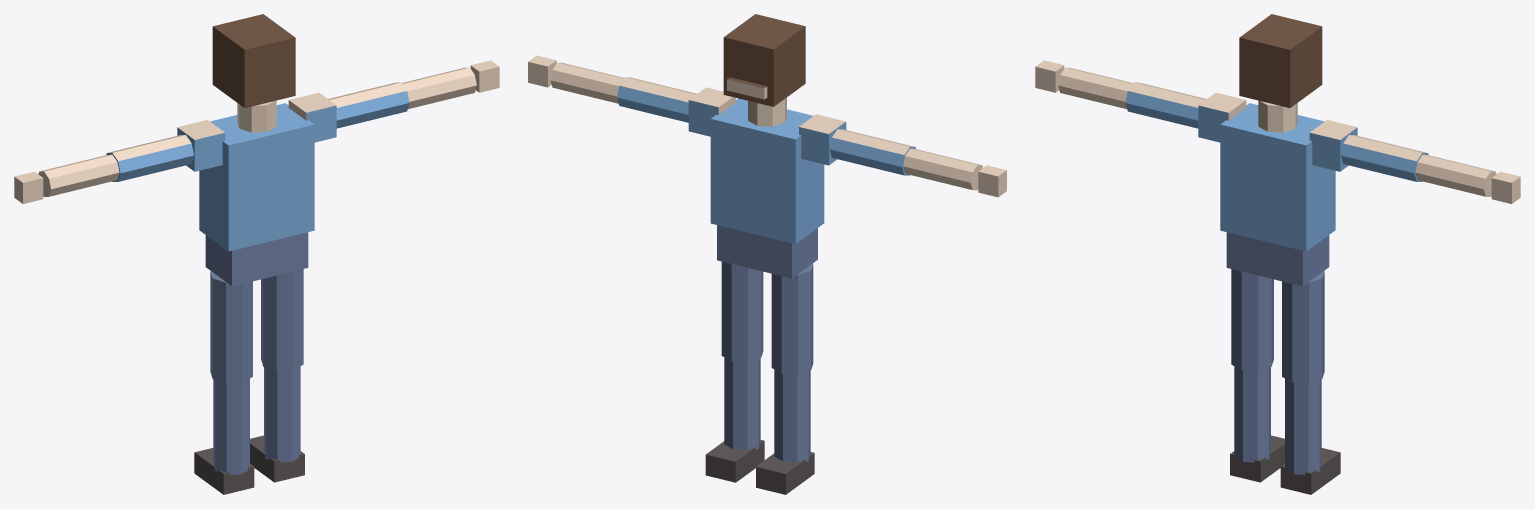
The model's file is tutorial_avatar.glb.
The picture shows the model from 3 angles, left to right: view 1: azimuth 30°, elevation 25°; view 2: azimuth 150°, elevation 25°; view 3: azimuth 330°, elevation 25°; orthographic projection.
Visible parts, largest first — view 1: TutorialAvatar; view 2: TutorialAvatar; view 3: TutorialAvatar.
Boxes of the visible parts, bbox=[...] form: TutorialAvatar: bbox=[14, 14, 499, 494]; TutorialAvatar: bbox=[528, 14, 1006, 494]; TutorialAvatar: bbox=[1035, 14, 1520, 494].
Bounding box in the file's own units: 2.01 × 1.8 × 0.2689.
